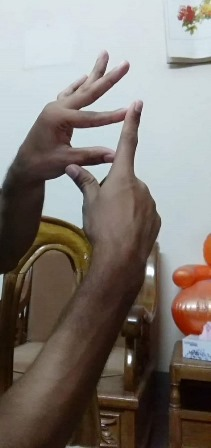k: (40, 50, 160, 260)
